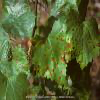grape leaf black rot: (29, 18, 71, 86), (64, 11, 99, 71), (2, 0, 35, 41), (0, 43, 30, 85)
